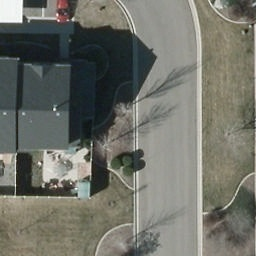car: (56, 0, 72, 24)
